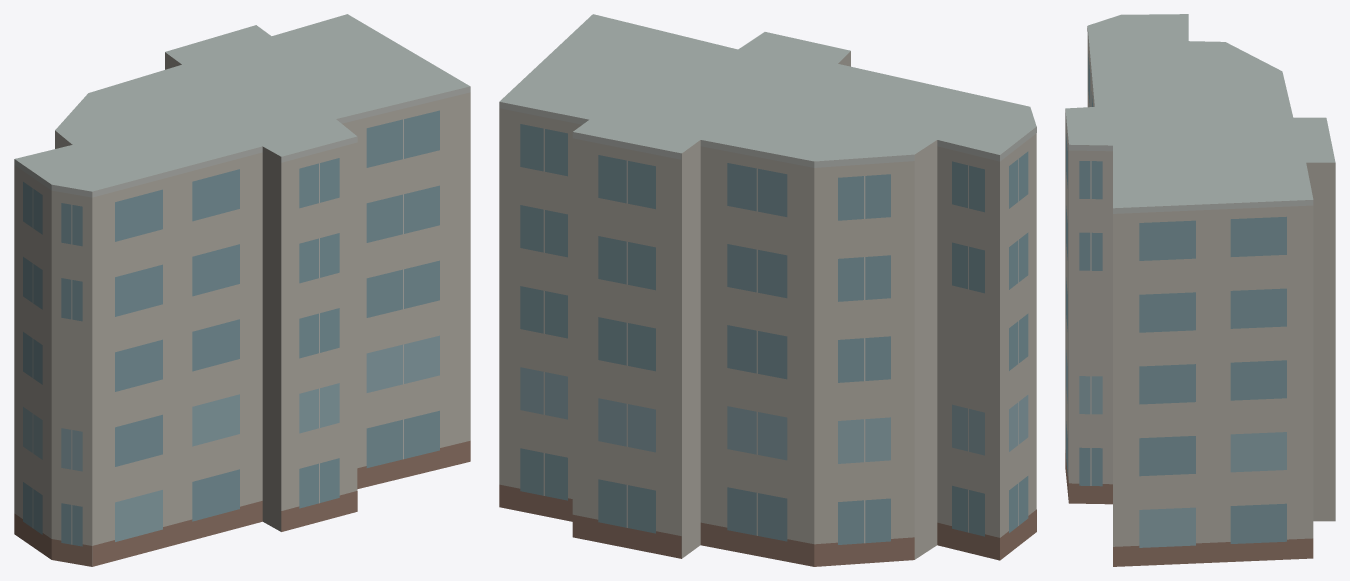
Rendered from survey-upis-32640667.glb.
The picture shows the model from 3 angles, left to right: view 1: azimuth 30°, elevation 25°; view 2: azimuth 150°, elevation 25°; view 3: azimuth 270°, elevation 25°; orthographic projection. The views are drawn at different scales.
Parts seen in each view (by area): view 1: survey-upis-32640667.tmp; view 2: survey-upis-32640667.tmp; view 3: survey-upis-32640667.tmp.
Part boxes in pixels (bbox=[...]): survey-upis-32640667.tmp: bbox=[14, 14, 470, 566]; survey-upis-32640667.tmp: bbox=[499, 14, 1036, 566]; survey-upis-32640667.tmp: bbox=[1065, 14, 1335, 566].
Bounding box in the file's own units: 17.72 × 15.25 × 10.42.
